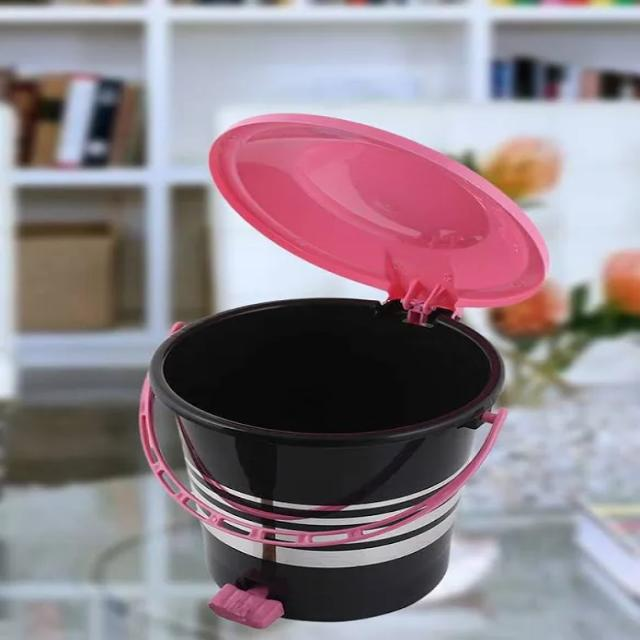plastic_box: (122, 261, 517, 639)
